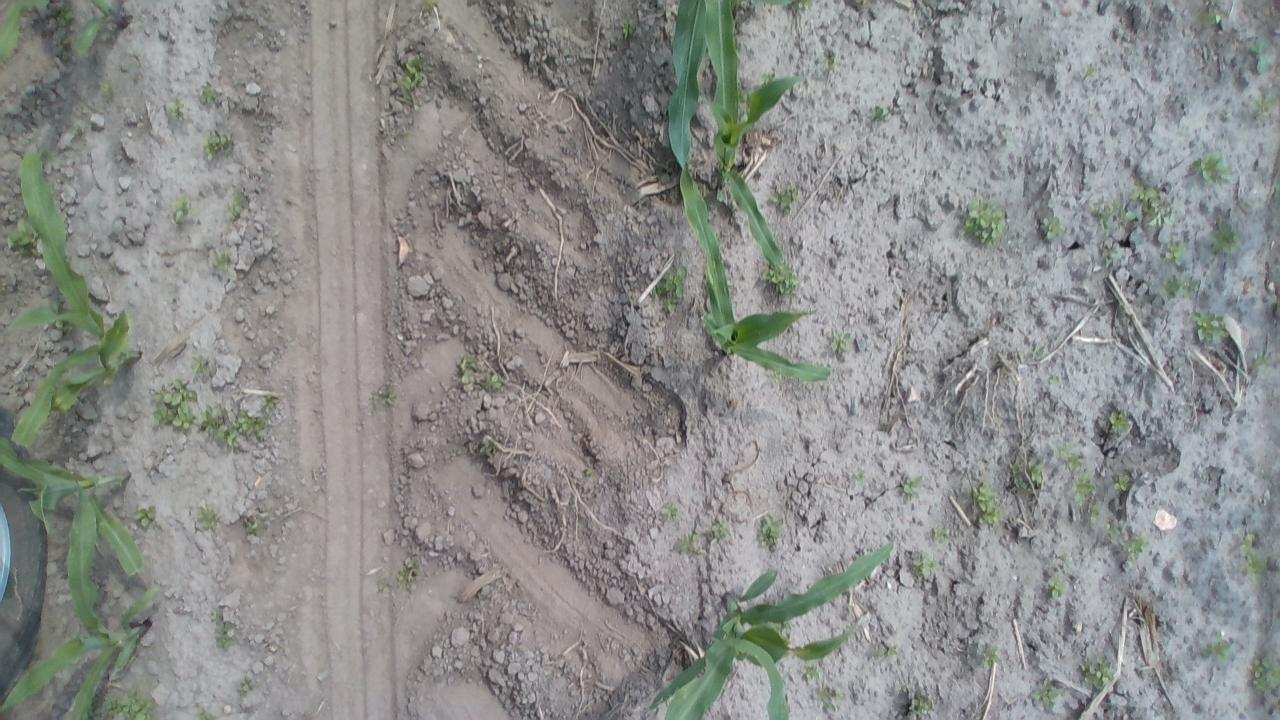Maize: (649, 536, 895, 720), (4, 150, 145, 445), (664, 0, 804, 285), (678, 184, 840, 386), (0, 438, 148, 606), (2, 611, 158, 719), (0, 0, 131, 67)
Weeds: (198, 404, 270, 450), (150, 379, 200, 438), (960, 198, 1008, 248), (82, 688, 158, 718), (1128, 178, 1174, 226), (1236, 532, 1272, 584), (654, 266, 689, 316), (758, 261, 802, 296), (1066, 461, 1096, 509), (210, 606, 238, 653), (1080, 654, 1114, 692), (1192, 152, 1232, 184), (1105, 524, 1144, 556), (1112, 528, 1151, 560), (396, 56, 424, 100), (1193, 308, 1227, 344), (972, 480, 1001, 522), (1160, 270, 1202, 298), (202, 126, 236, 160), (1056, 444, 1088, 480), (906, 552, 944, 582), (1246, 654, 1276, 690), (1203, 632, 1235, 665), (1029, 679, 1064, 709), (1090, 200, 1126, 229), (755, 512, 782, 550), (1044, 570, 1074, 604), (770, 182, 800, 215), (1212, 222, 1240, 256), (814, 686, 850, 712), (226, 187, 252, 223), (902, 689, 934, 717), (8, 221, 36, 253), (456, 349, 478, 389), (1246, 88, 1276, 117), (195, 502, 224, 531), (706, 516, 736, 543), (680, 530, 711, 556), (1250, 36, 1270, 75), (241, 512, 276, 534), (398, 556, 422, 588), (1201, 3, 1229, 30), (1160, 238, 1187, 266), (208, 249, 238, 274), (171, 194, 193, 226), (974, 640, 1000, 667), (1038, 214, 1064, 241), (163, 93, 189, 120), (198, 80, 225, 106), (899, 474, 924, 501), (1108, 408, 1131, 437), (1006, 458, 1028, 488), (371, 384, 398, 408), (480, 368, 507, 392), (1104, 522, 1130, 546), (134, 506, 160, 529), (829, 329, 851, 356), (1082, 501, 1103, 527), (1026, 461, 1044, 489), (1252, 348, 1272, 373), (190, 353, 210, 378), (262, 391, 278, 422), (874, 642, 900, 661), (52, 6, 74, 27), (659, 502, 682, 522), (98, 80, 120, 100), (1098, 242, 1120, 262), (235, 674, 255, 695), (868, 101, 888, 122), (618, 16, 635, 40), (801, 663, 822, 682), (852, 468, 872, 487), (1054, 550, 1074, 569), (194, 704, 219, 719), (928, 526, 948, 544), (1113, 472, 1131, 491), (1029, 340, 1047, 358), (476, 442, 496, 458), (1083, 64, 1098, 84), (70, 122, 84, 140)
